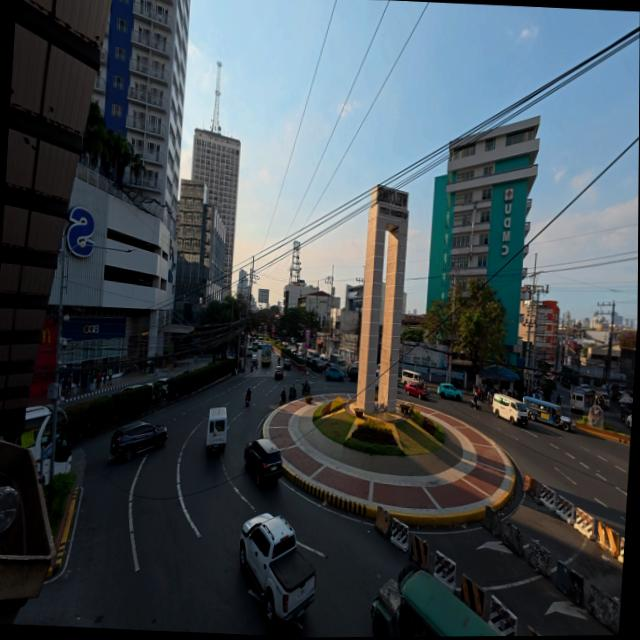Jeepneys: (370, 563, 501, 636), (522, 396, 575, 431)
bus: (4, 406, 51, 485), (260, 343, 270, 366)
car: (239, 514, 315, 624), (110, 422, 166, 461), (244, 439, 281, 485), (437, 384, 462, 401), (404, 383, 428, 400), (324, 365, 343, 380), (310, 358, 323, 372), (121, 384, 142, 392), (346, 365, 357, 380), (274, 366, 282, 380), (323, 362, 334, 372), (283, 357, 291, 370), (579, 385, 590, 394), (250, 355, 257, 367), (319, 354, 328, 363), (305, 354, 311, 367), (625, 414, 631, 427), (246, 345, 251, 356)
motorcycle: (469, 398, 481, 410), (288, 388, 296, 400), (301, 383, 309, 395), (620, 409, 628, 420), (278, 395, 285, 405), (245, 396, 249, 407), (249, 364, 253, 372)
trucks: (239, 514, 315, 623)
vans: (492, 393, 527, 426), (206, 407, 226, 453), (569, 388, 584, 414), (401, 370, 423, 386)
